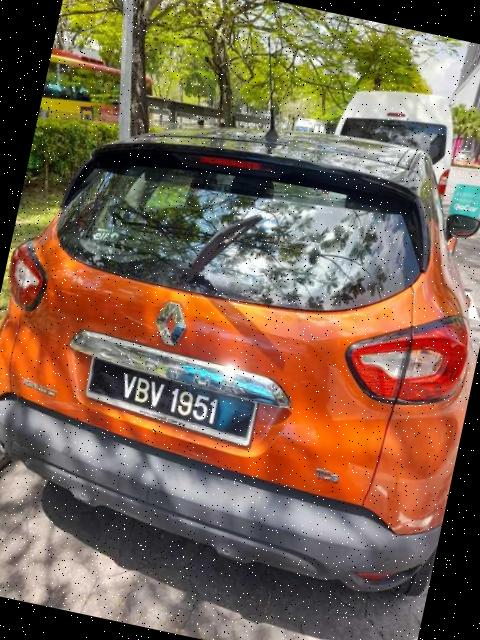License_Plate: (81, 355, 263, 448)
car: (1, 70, 480, 607)
